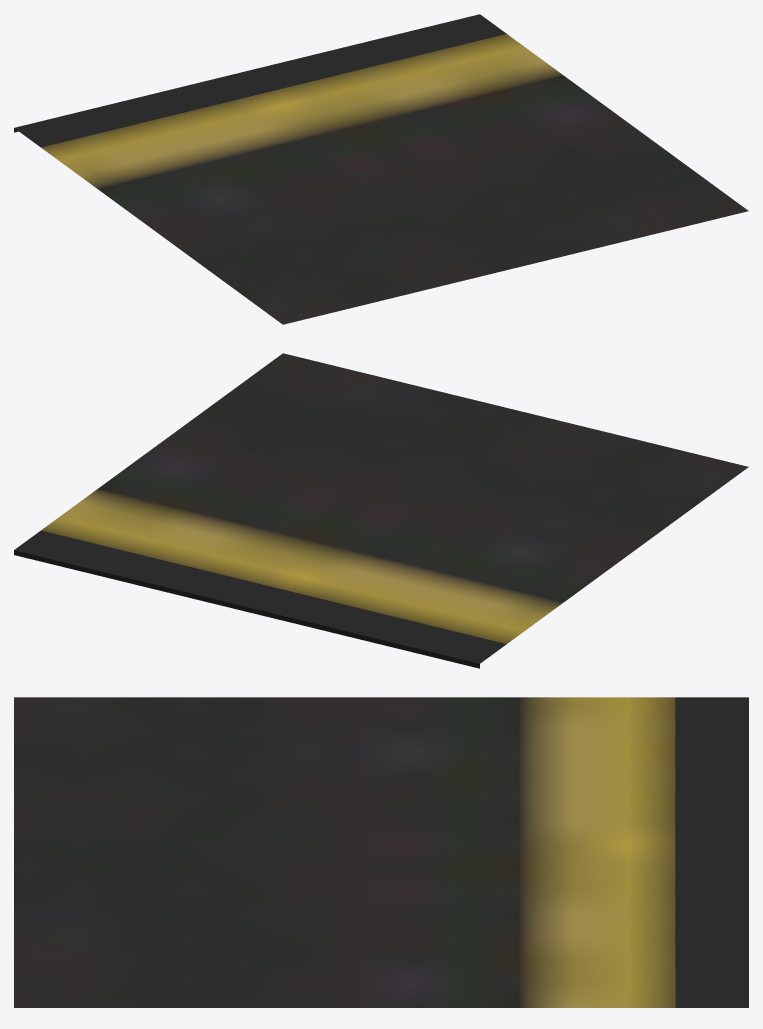
File: 0D_midcarls.obj
3 renders of one model, top to bottom at view 1: azimuth 30°, elevation 25°; view 2: azimuth 150°, elevation 25°; view 3: azimuth 270°, elevation 25°, orthographic. The views are drawn at different scales.
Visible parts, largest first — view 1: 0D_midcarls_Plane.022; view 2: 0D_midcarls_Plane.022; view 3: 0D_midcarls_Plane.022.
Boxes of the visible parts, <box> form: 0D_midcarls_Plane.022: <box>14,14,748,324</box>; 0D_midcarls_Plane.022: <box>14,353,748,668</box>; 0D_midcarls_Plane.022: <box>14,697,748,1007</box>.
Bounding box in the file's own units: 1.6 × 0.016 × 1.6.
